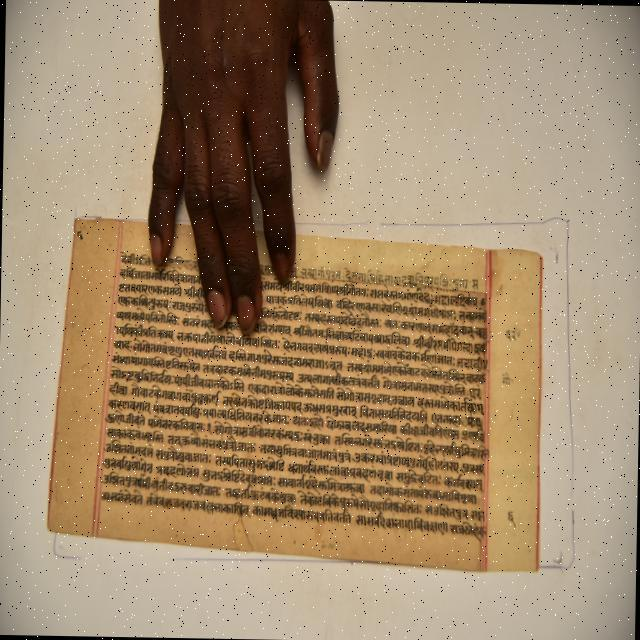text_paragraph: (46, 218, 547, 574)
